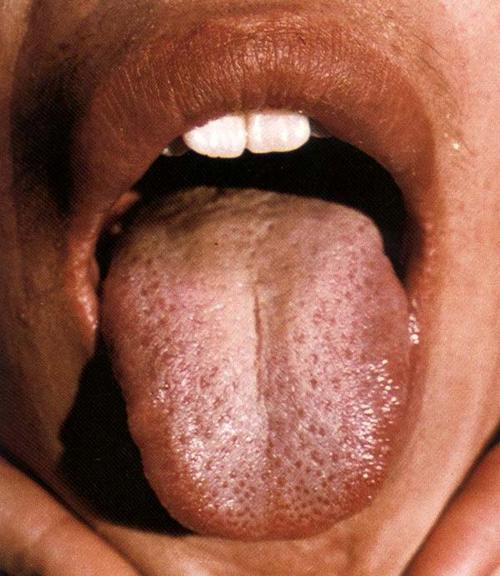baitaishe: (105, 186, 410, 539)
hongdianshe: (136, 286, 254, 527), (286, 300, 361, 528)
liewenshe: (251, 297, 268, 407)
